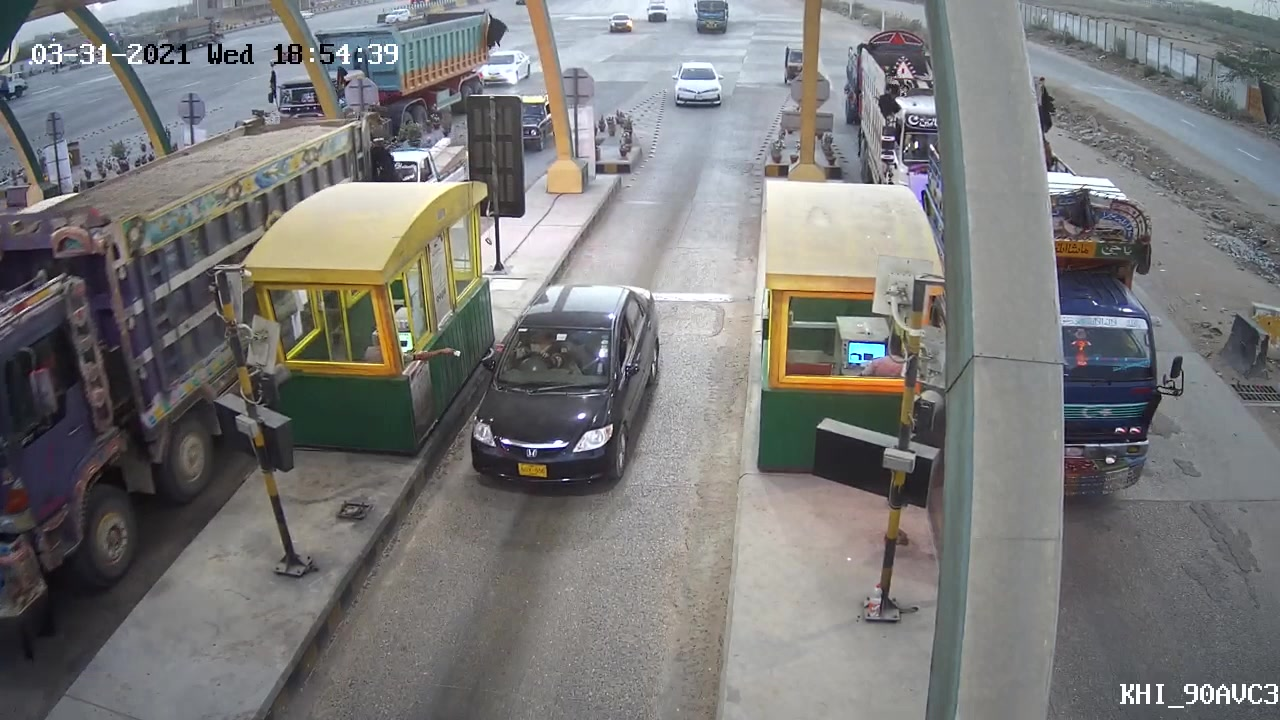F1: (462, 285, 659, 488)
